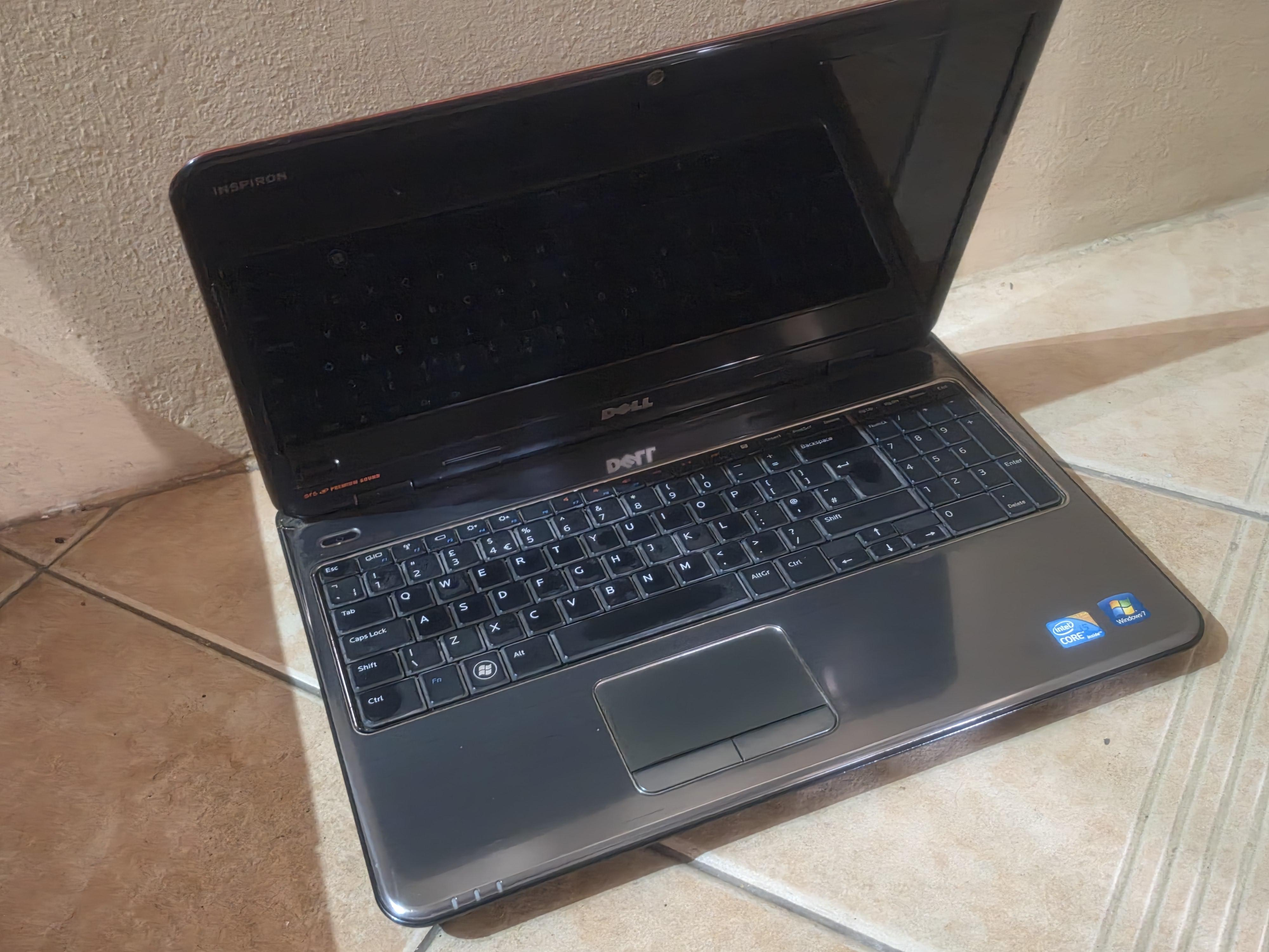laptop: (168, 0, 1209, 928)
